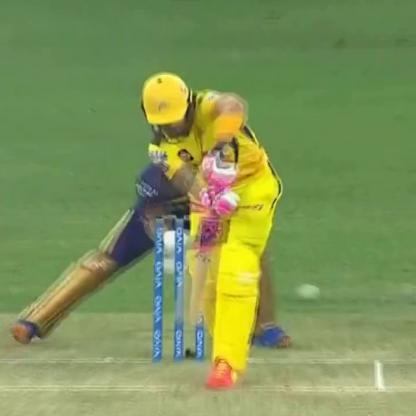ball: (296, 280, 322, 310)
bat: (186, 187, 230, 340)
pitch: (0, 348, 415, 415)
